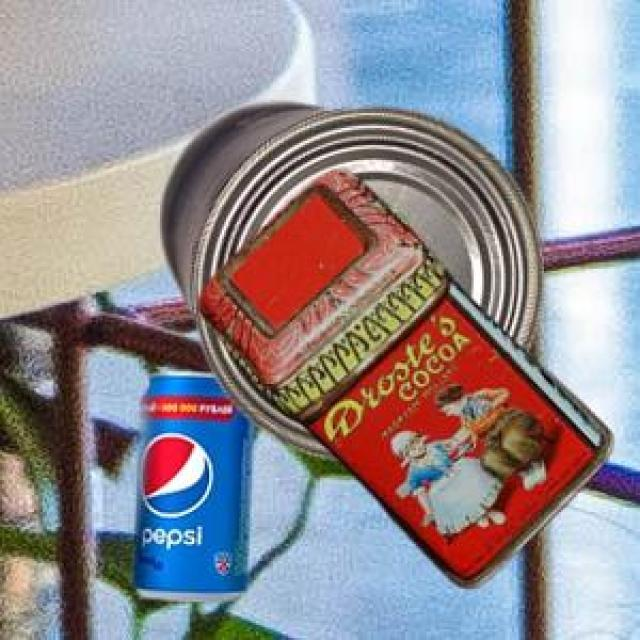Can: (197, 167, 609, 586), (157, 97, 541, 458), (131, 370, 249, 598)
